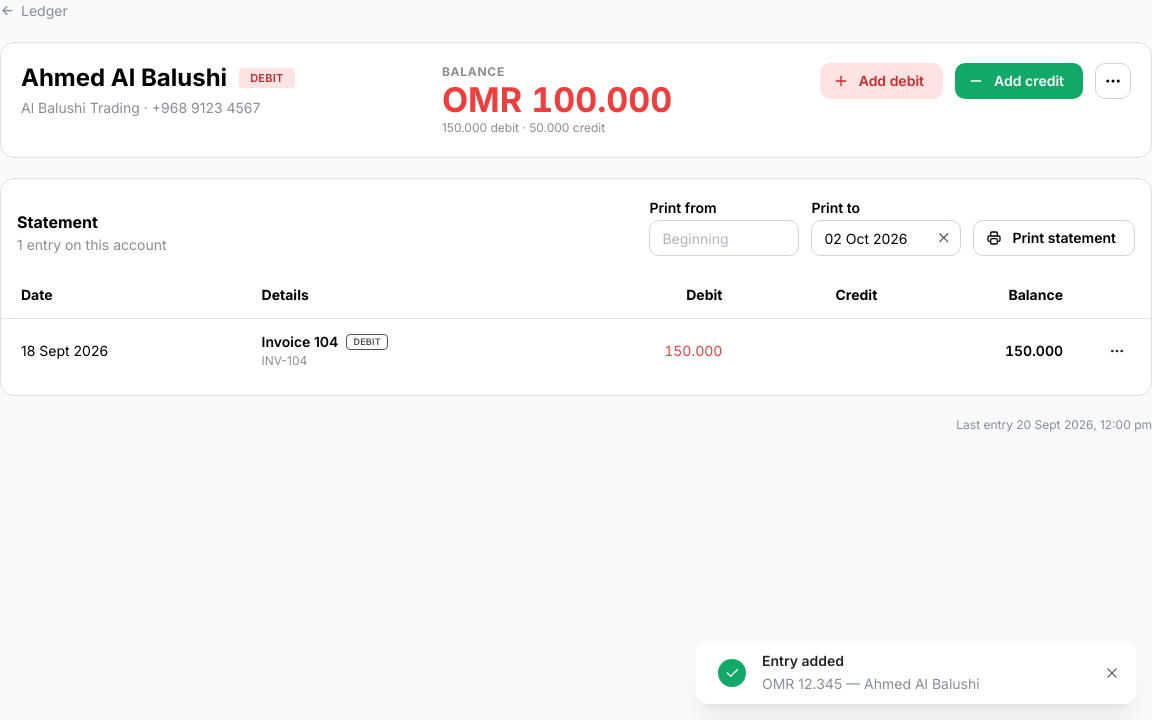
Test case: one account › will not cancel an entry without a reason
Click the button named "actions for invoice 104".
click(1117, 351)  # box [1103,337,1131,365]
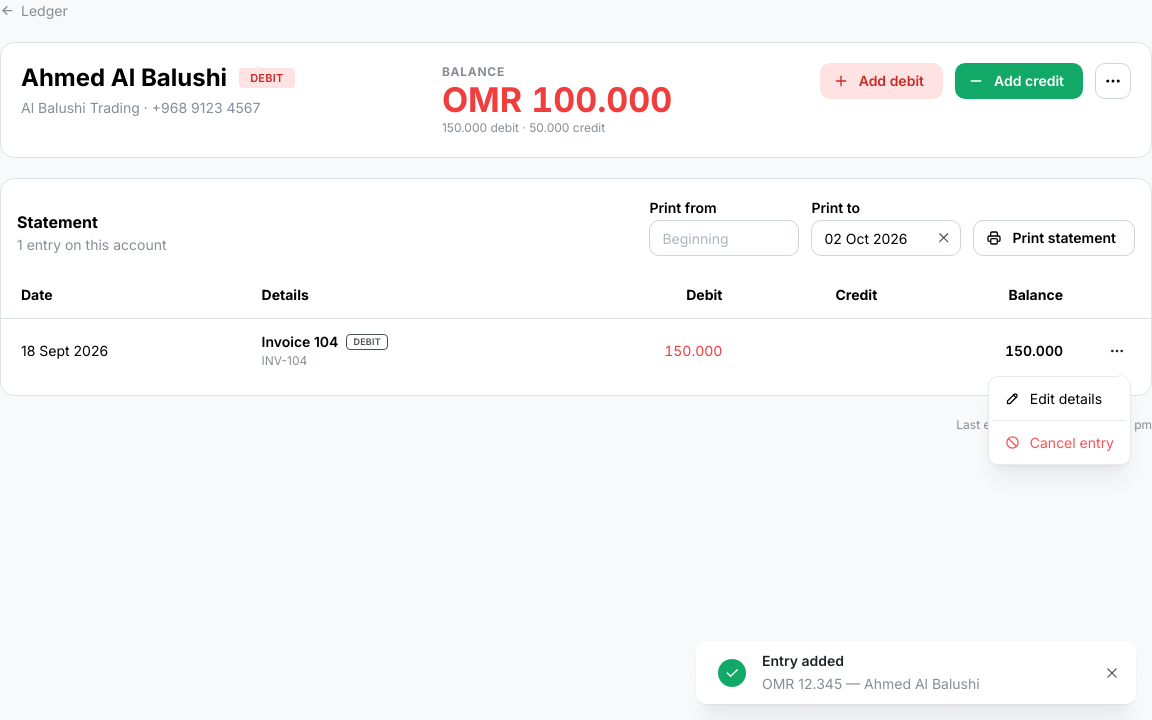
Click the menu item "Cancel entry".
click(1059, 443)  # box [993,425,1126,460]
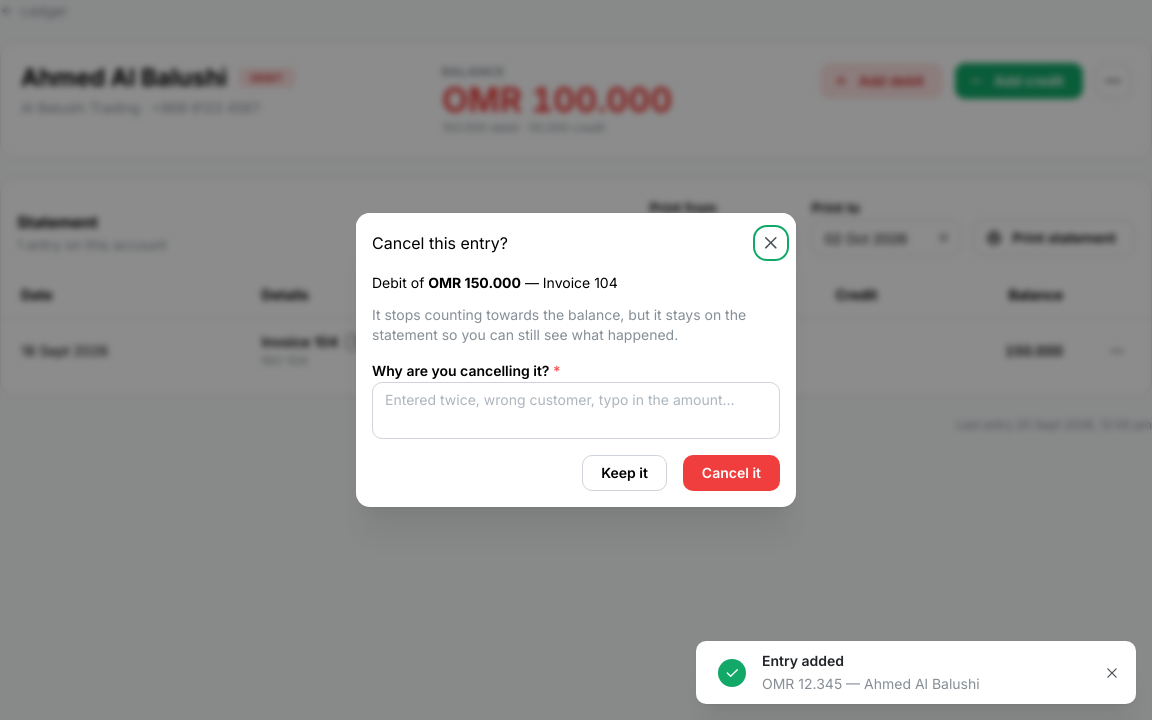
Click the button "Cancel it".
click(731, 473)  # box [683,455,780,491]
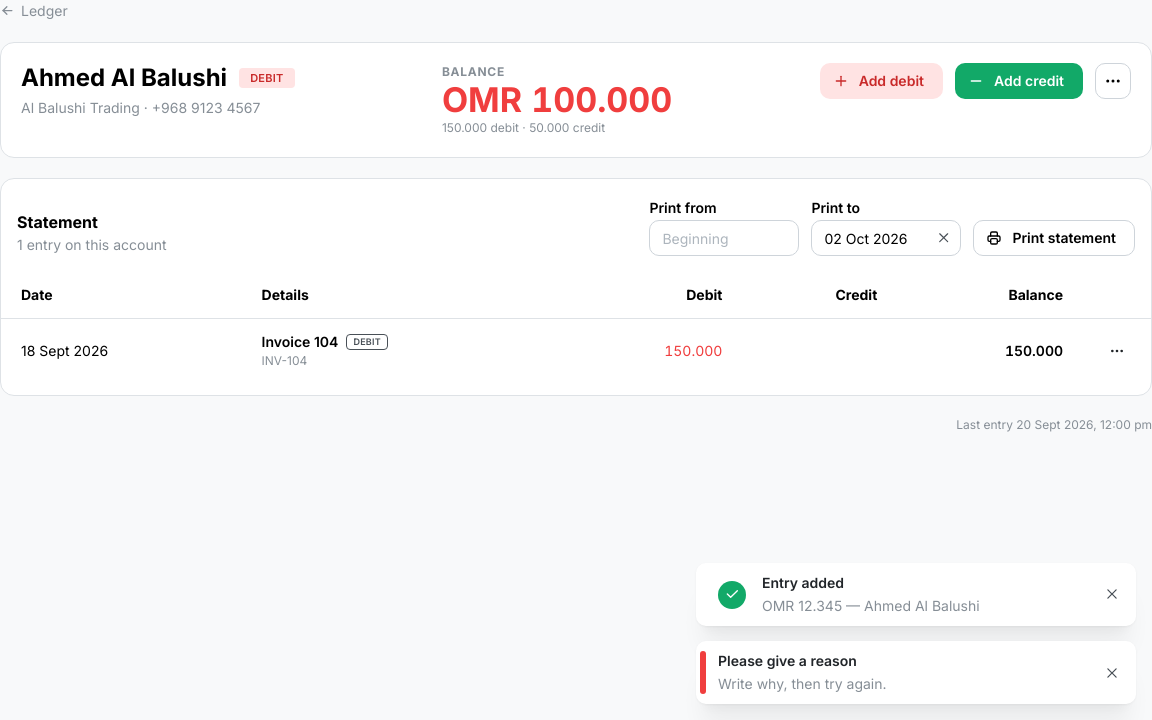
Now the text "Please give a reason" is shown, box [718,652,857,669]
